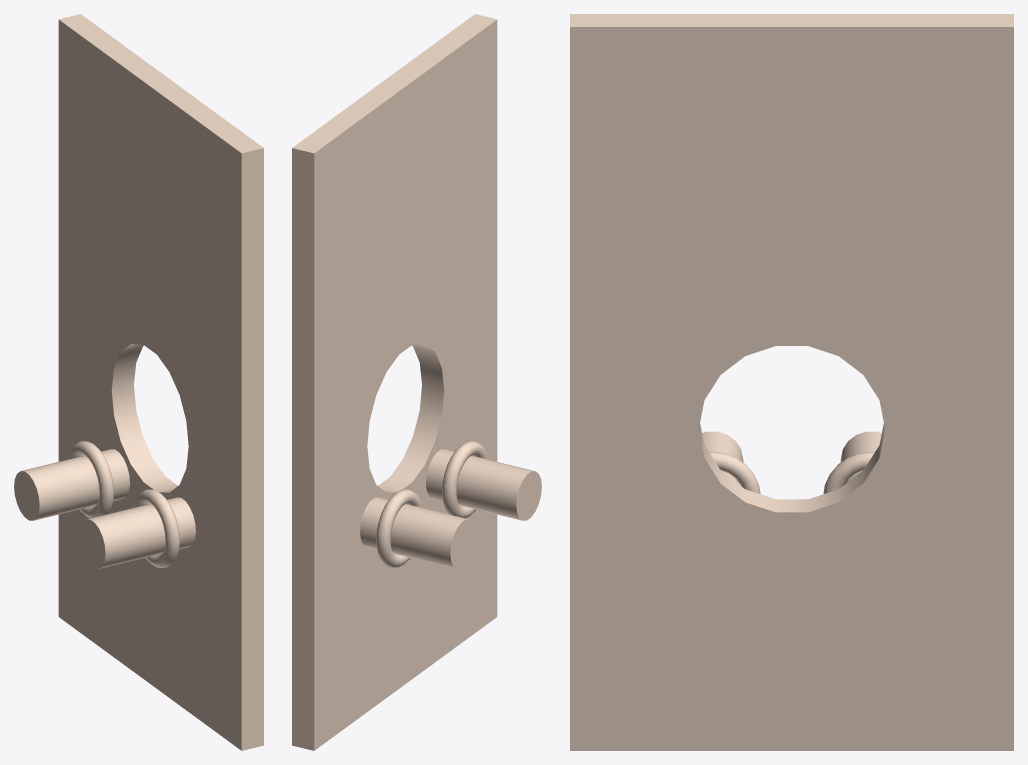
Rendered from infrared_analyzer_fix_frame.gltf.
The picture shows the model from 3 angles, left to right: view 1: azimuth 30°, elevation 25°; view 2: azimuth 150°, elevation 25°; view 3: azimuth 270°, elevation 25°; orthographic projection. The views are drawn at different scales.
Parts seen in each view (by area): view 1: infrared_analyzer_fix_frame; view 2: infrared_analyzer_fix_frame; view 3: infrared_analyzer_fix_frame.
Boxes of the visible parts, x1,y1,x2,y2 form: infrared_analyzer_fix_frame: (14,14,263,750); infrared_analyzer_fix_frame: (292,14,541,750); infrared_analyzer_fix_frame: (570,14,1013,750).
Bounding box in the file's own units: 13.98 × 70.87 × 39.37.
